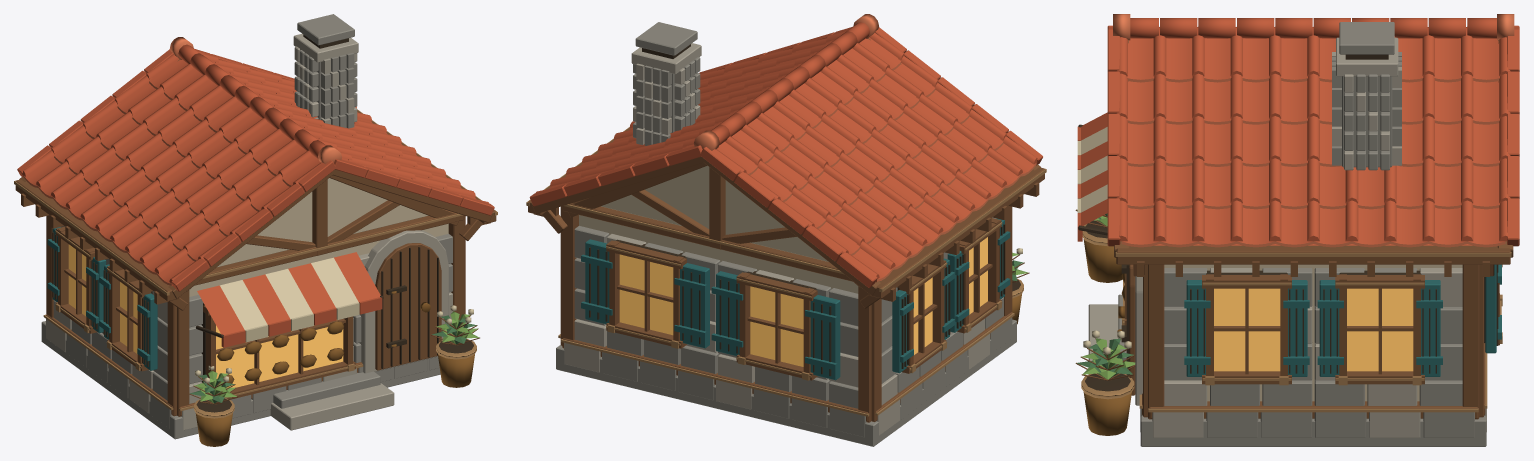
3 renders of one model, left to right at view 1: azimuth 30°, elevation 25°; view 2: azimuth 150°, elevation 25°; view 3: azimuth 270°, elevation 25°, orthographic. The views are drawn at different scales.
Parts seen in each view (by area): view 1: alpine_shop_1_geometry, alpine_shop_1_geometry ceramic; view 2: alpine_shop_1_geometry, alpine_shop_1_geometry ceramic; view 3: alpine_shop_1_geometry, alpine_shop_1_geometry ceramic.
Part boxes in pixels (x1,y1,x2,y2): alpine_shop_1_geometry: (14, 14, 497, 446); alpine_shop_1_geometry ceramic: (17, 37, 494, 347); alpine_shop_1_geometry: (526, 22, 1046, 446); alpine_shop_1_geometry ceramic: (529, 14, 1042, 287); alpine_shop_1_geometry: (1075, 22, 1513, 446); alpine_shop_1_geometry ceramic: (1077, 14, 1519, 247).
Bounding box in the file's own units: 0.9344 × 0.78 × 0.8301.
